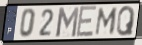0: (19, 7, 37, 39)
2: (37, 8, 56, 38)
E: (76, 5, 99, 40)
M: (55, 6, 81, 38), (94, 7, 119, 37)
Q: (115, 5, 137, 38)
